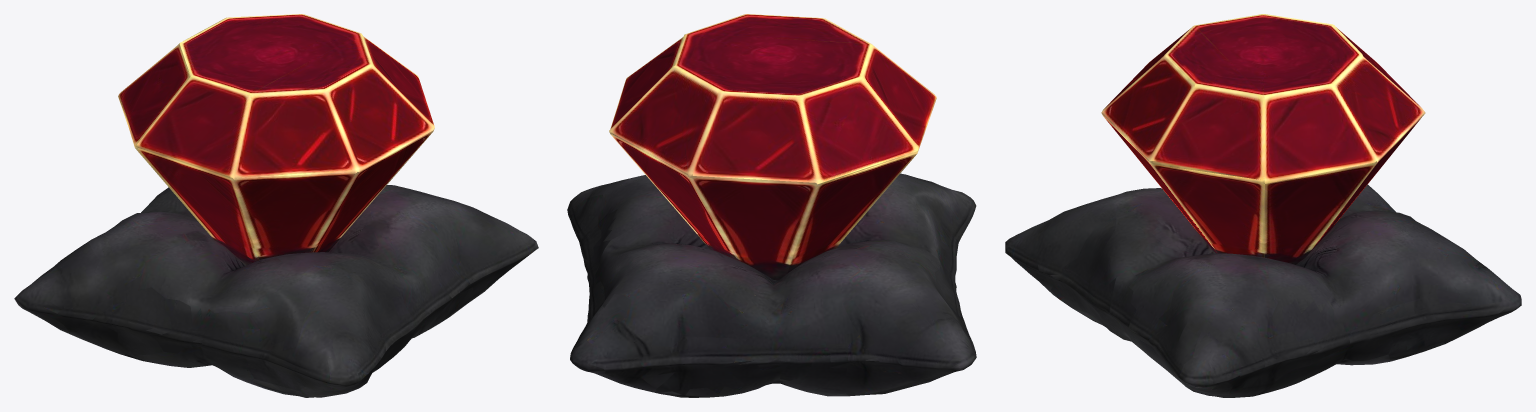
The model's file is blood_diamond.glb.
3 views of the same model, side by side, from view 1: azimuth 30°, elevation 25°; view 2: azimuth 150°, elevation 25°; view 3: azimuth 270°, elevation 25° (orthographic). The views are drawn at different scales.
Bounding box in the file's own units: 1 × 0.6035 × 1.
Materials: 1 (1 with a texture image).
